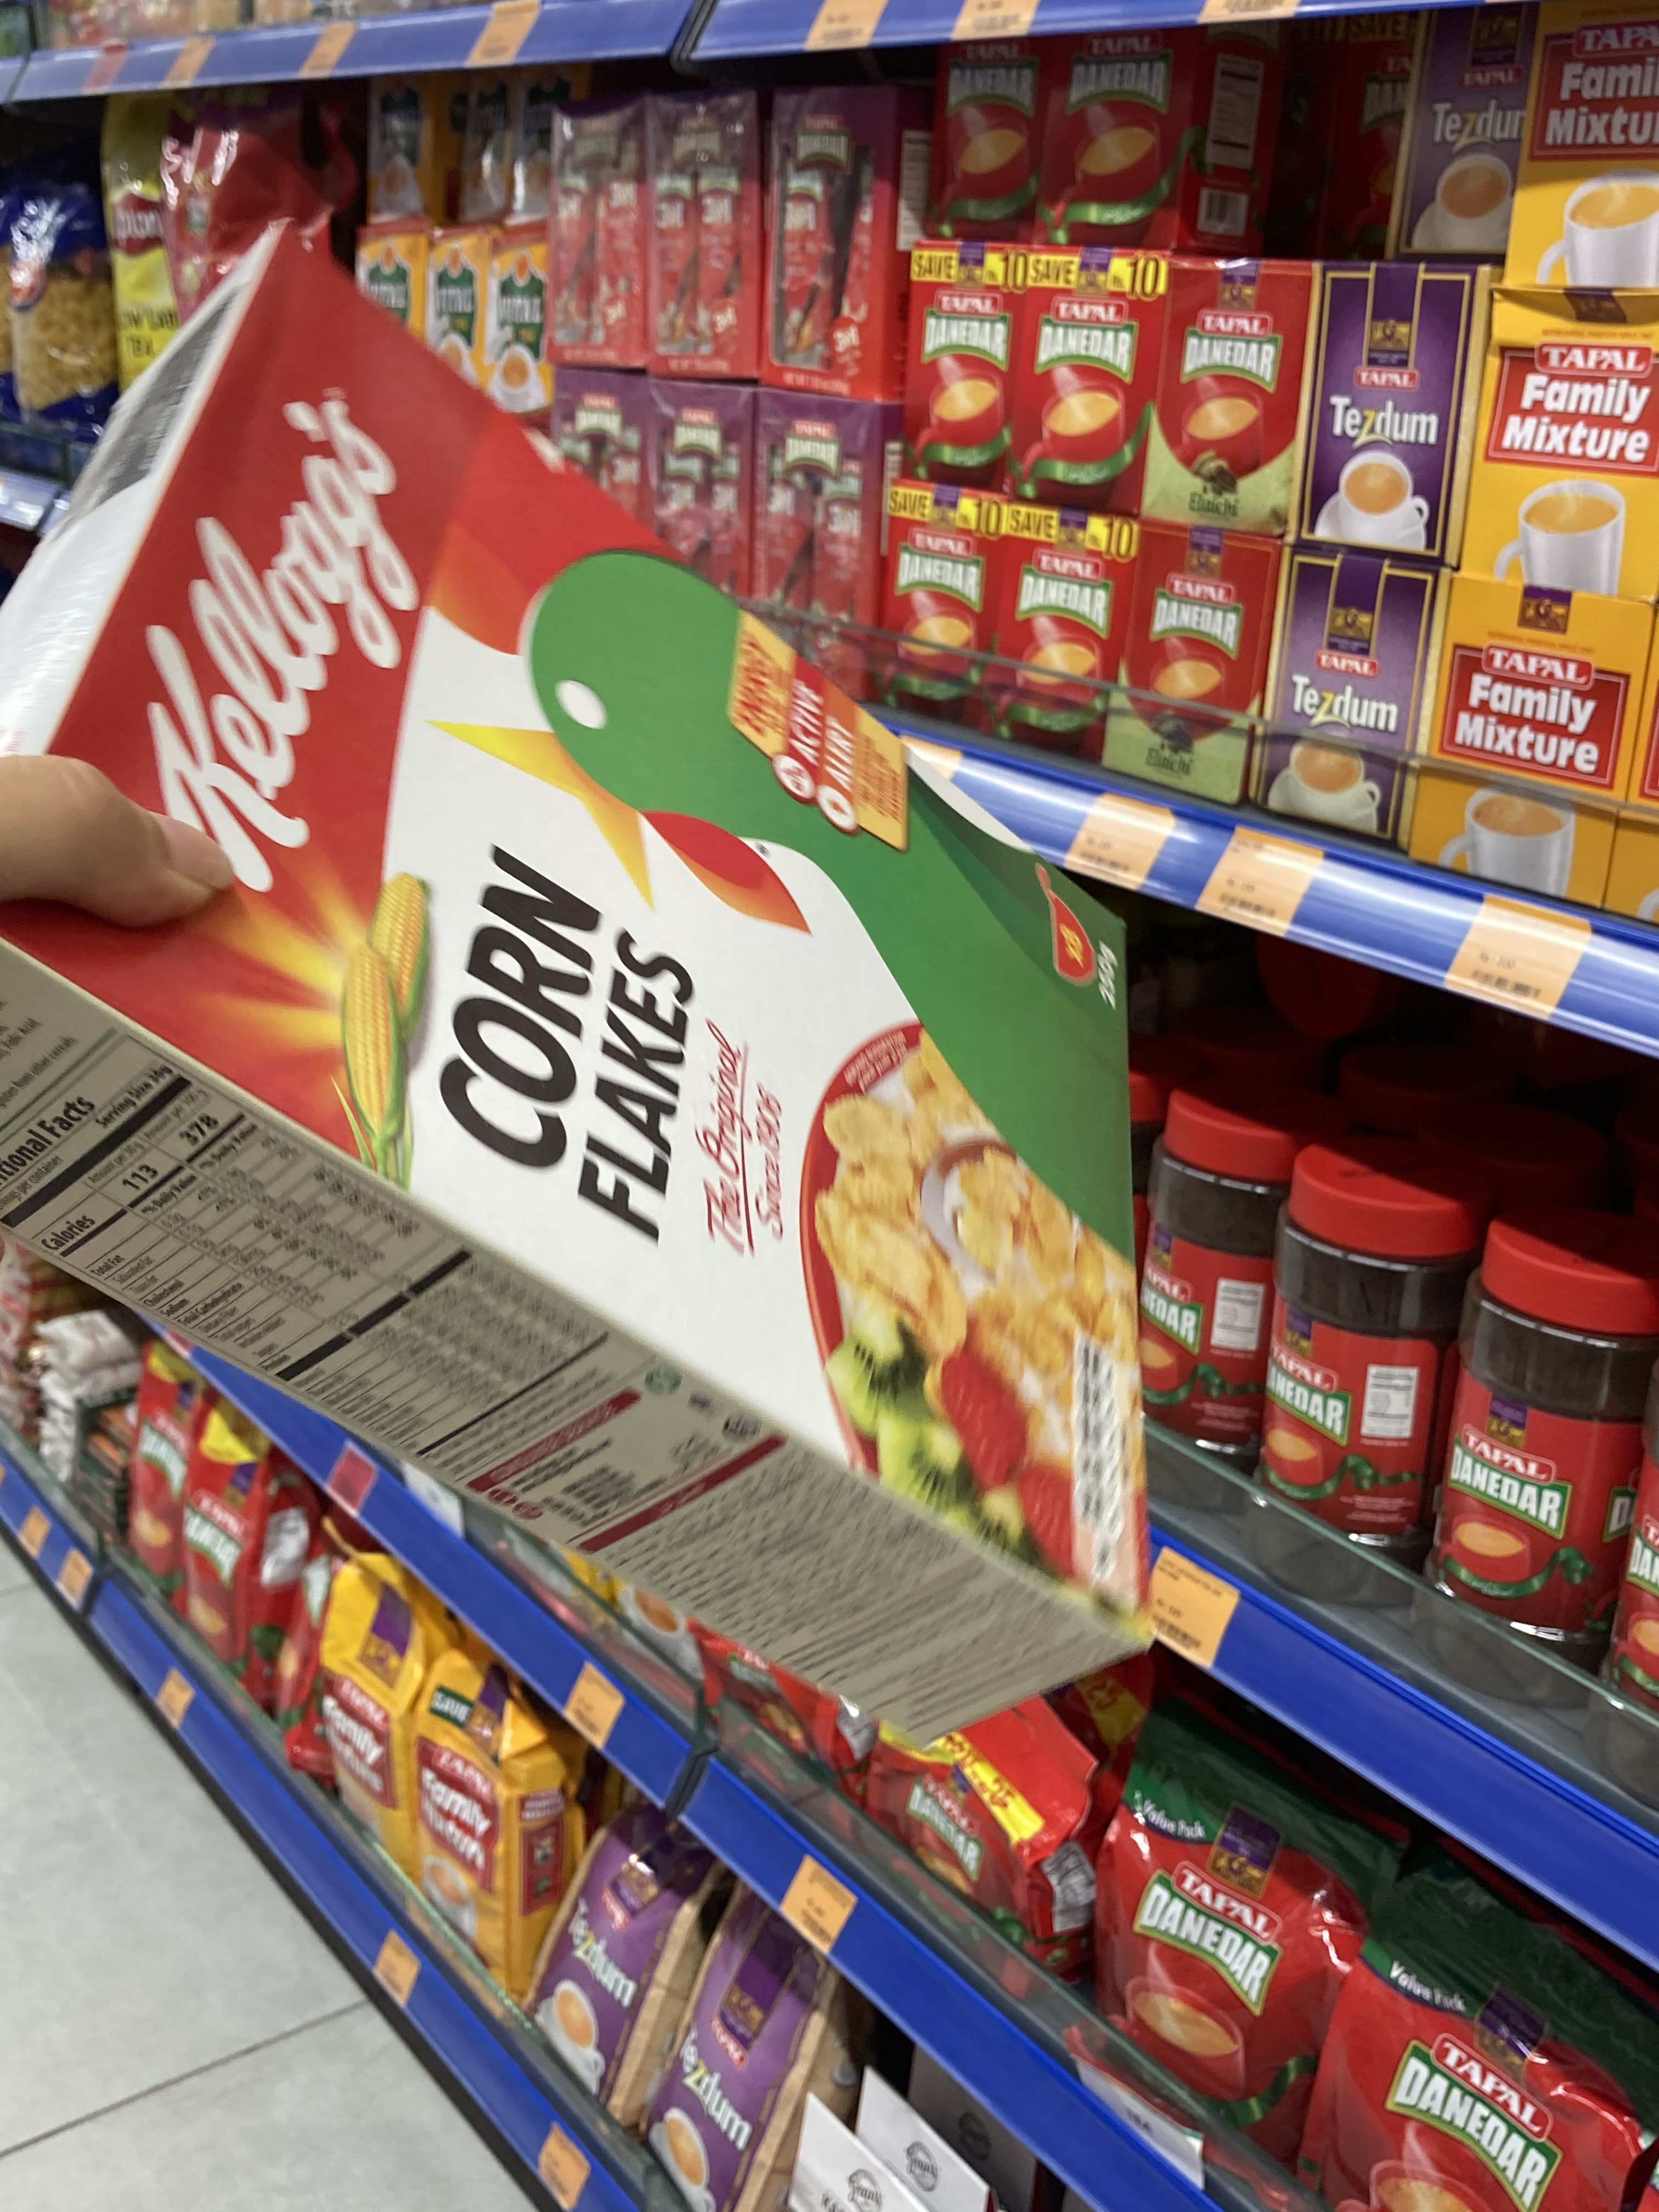Kellogg's Corn Flakes: (12, 221, 1147, 1743)
